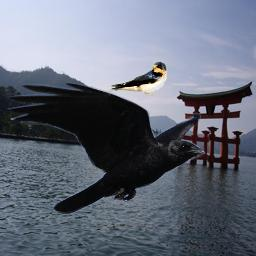Crow: (6, 80, 208, 215)
Swallow: (99, 61, 168, 96)
